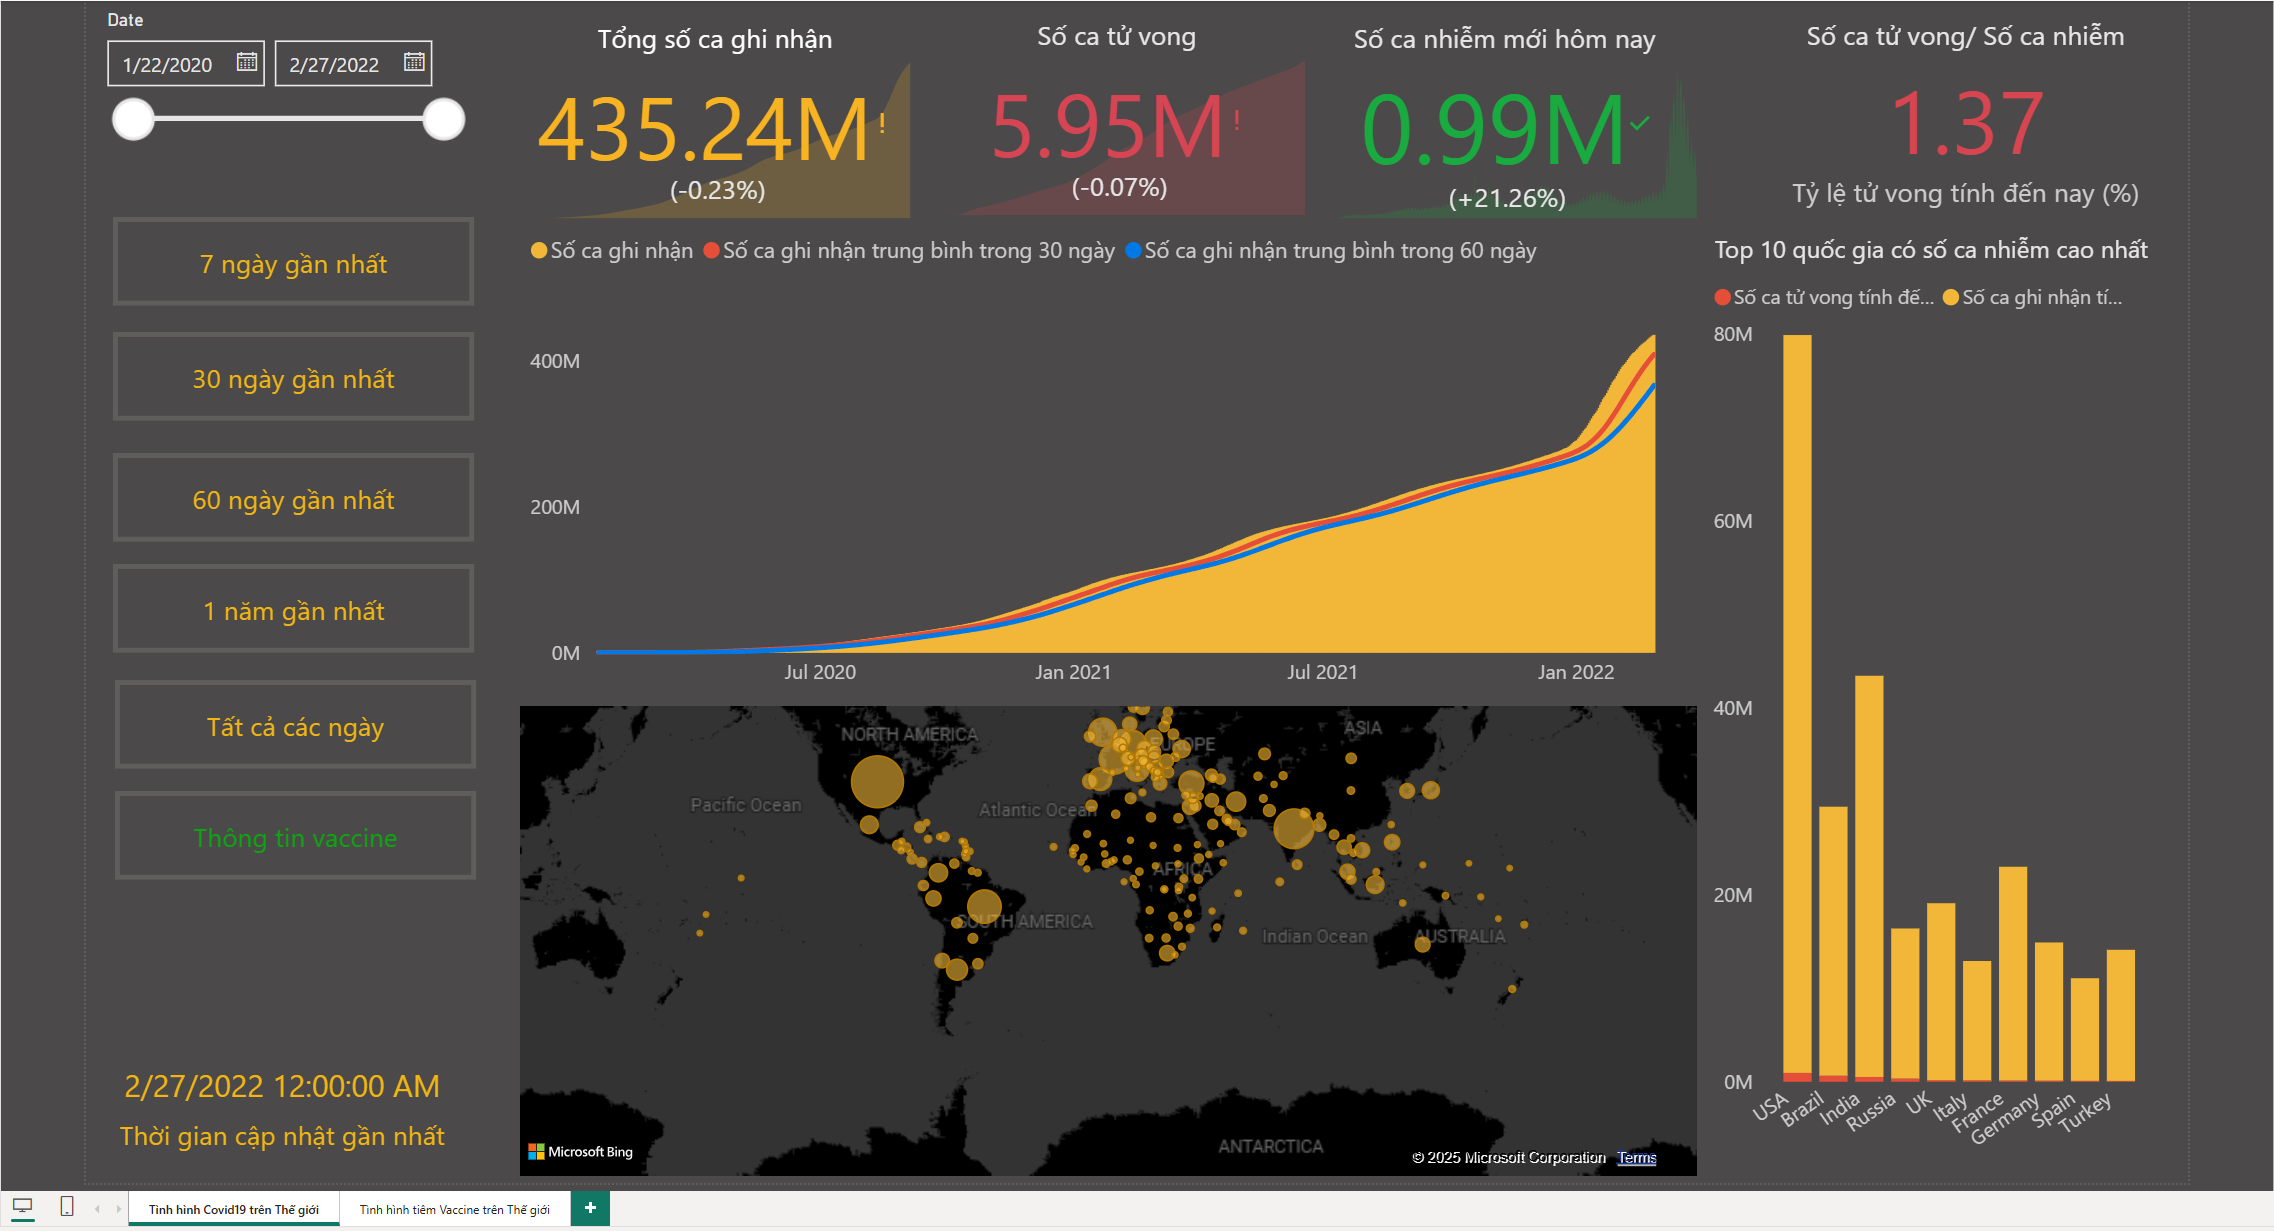

The page's visual inventory and layout, read from the dashboard file:
{"tool":"powerbi","page":{"name":"Tình hình Covid19 trên Thế giới","canvas":[1280,720],"ordinal":0},"visuals":[{"type":"lineStackedColumnComboChart","fields":{"Category":["Covid19.Date"],"Y":["Measure.Số ca ghi nhận"],"Y2":["Measure.Số ca ghi nhận trung bình trong 30 ngày","Measure.Số ca ghi nhận trung bình trong 60 ngày"]},"box":[265.2,131.6,721,295.7],"z":0},{"type":"columnChart","title":"Top 10 quốc gia có số ca nhiễm cao nhất","fields":{"Y":["Measure.Số ca tử vong tính đến hôm qua","Measure.Số ca ghi nhận tính đến nay"],"Category":["Covid19.Country"]},"box":[986.3,135.6,276,584.5],"z":1000},{"type":"map","fields":{"Category":["Covid19.Country"],"Size":["Measure.Số ca ghi nhận tính đến nay"]},"box":[259.3,424.4,726.9,295.7],"z":2000},{"type":"kpi","title":"Tổng số ca ghi nhận","fields":{"Goal":["Measure.Số ca ghi nhận tính đến ngày hôm qua"],"TrendLine":["Covid19.Date"],"Indicator":["Measure.Số ca ghi nhận tính đến nay"]},"box":[259.3,11.8,247.6,125.7],"z":3000},{"type":"kpi","title":"Số ca tử vong","fields":{"TrendLine":["Covid19.Date"],"Indicator":["Measure.Số ca tử vong tính đến nay"],"Goal":["Measure.Số ca tử vong tính đến hôm qua"]},"box":[506.9,9.8,242.6,125.7],"z":4000},{"type":"card","title":"Số ca tử vong/ Số ca nhiễm","fields":{"Values":["Measure.Tỷ lệ tử vong tính đến nay (%)"]},"box":[1010.8,9.8,269.2,121.8],"z":5000},{"type":"kpi","title":"Số ca nhiễm mới hôm nay","fields":{"Indicator":["Measure.Số ca nhiễm mới hôm nay"],"Goal":["Measure.Số ca nhiễm mới hôm qua"],"TrendLine":["Covid19.Date"]},"box":[742.7,11.8,243.6,125.7],"z":6000},{"type":"slicer","fields":{"Values":["Covid19.Date"]},"box":[0,0,238.7,135.6],"z":7000},{"type":"card","fields":{"Values":["Measure.Thời gian cập nhật gần nhất"]},"box":[0,626.3,239.1,93.7],"z":8000},{"type":"actionButton","title":"7 ngày gần nhất","box":[16.7,131.6,220,54],"z":9000},{"type":"actionButton","title":"7 ngày gần nhất","box":[16.7,201.4,220,54],"z":10000},{"type":"actionButton","title":"7 ngày gần nhất","box":[16.7,275.1,220,54],"z":11000},{"type":"actionButton","title":"7 ngày gần nhất","box":[16.7,342.8,220,54],"z":12000},{"type":"actionButton","title":"7 ngày gần nhất","box":[17.7,413.6,220,54],"z":13000},{"type":"actionButton","title":"7 ngày gần nhất","box":[17.7,481.4,220,54],"z":14000},{"type":"actionButton","box":[0,0,100,40],"z":15000}]}

Visuals, with their boxes on the page's 1280x720 design canvas (x1, y1, x2, y2). These are canvas units, not pixel positions in the 2274x1231 screenshot, which may show the page scaled, cropped or inside an application window:
lineStackedColumnComboChart - Covid19.Date x Measure.Số ca ghi nhận: 265:132:986:427
"Top 10 quốc gia có số ca nhiễm cao nhất" columnChart: 986:136:1262:720
map - Covid19.Country x Measure.Số ca ghi nhận tính đến nay: 259:424:986:720
"Tổng số ca ghi nhận" kpi: 259:12:507:138
"Số ca tử vong" kpi: 507:10:750:136
"Số ca tử vong/ Số ca nhiễm" card: 1011:10:1280:132
"Số ca nhiễm mới hôm nay" kpi: 743:12:986:138
slicer - Covid19.Date: 0:0:239:136
card - Measure.Thời gian cập nhật gần nhất: 0:626:239:720
"7 ngày gần nhất" actionButton: 17:132:237:186
"7 ngày gần nhất" actionButton: 17:201:237:255
"7 ngày gần nhất" actionButton: 17:275:237:329
"7 ngày gần nhất" actionButton: 17:343:237:397
"7 ngày gần nhất" actionButton: 18:414:238:468
"7 ngày gần nhất" actionButton: 18:481:238:535
actionButton: 0:0:100:40
